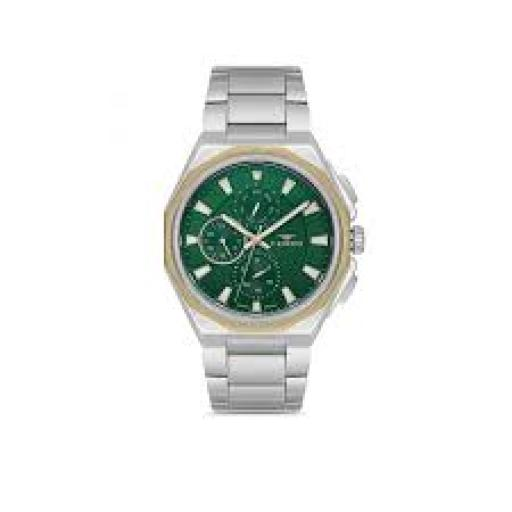KolSaati: (155, 48, 373, 430)
